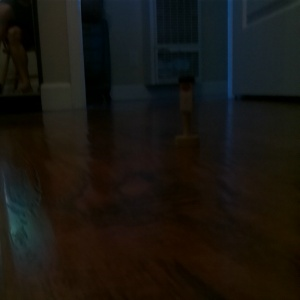traffic light red: (173, 74, 200, 147)
